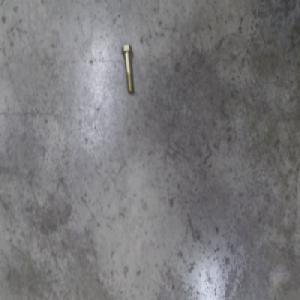Bolt: (122, 43, 135, 92)
